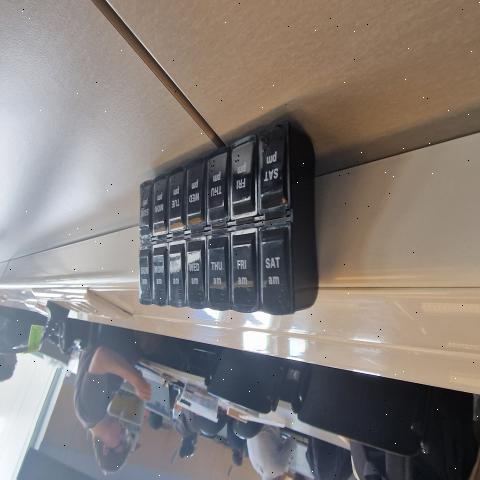PillBox: (112, 117, 339, 325)
